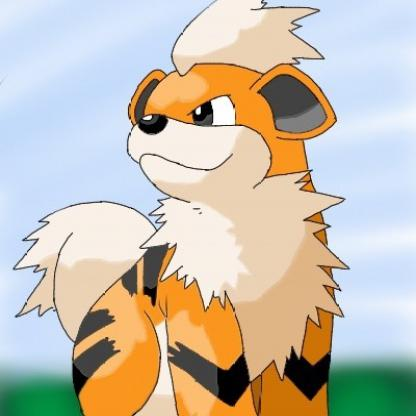Growlithe: (30, 1, 363, 416)
